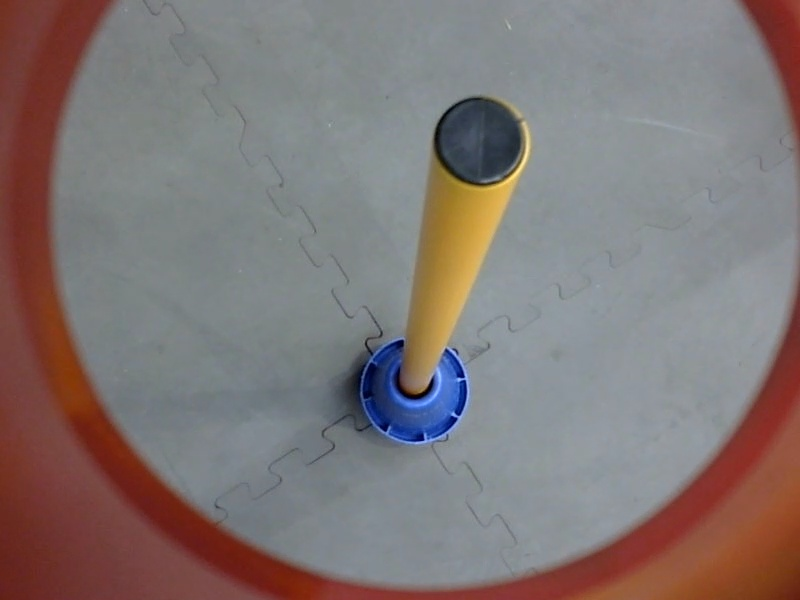tip: (425, 89, 535, 193)
